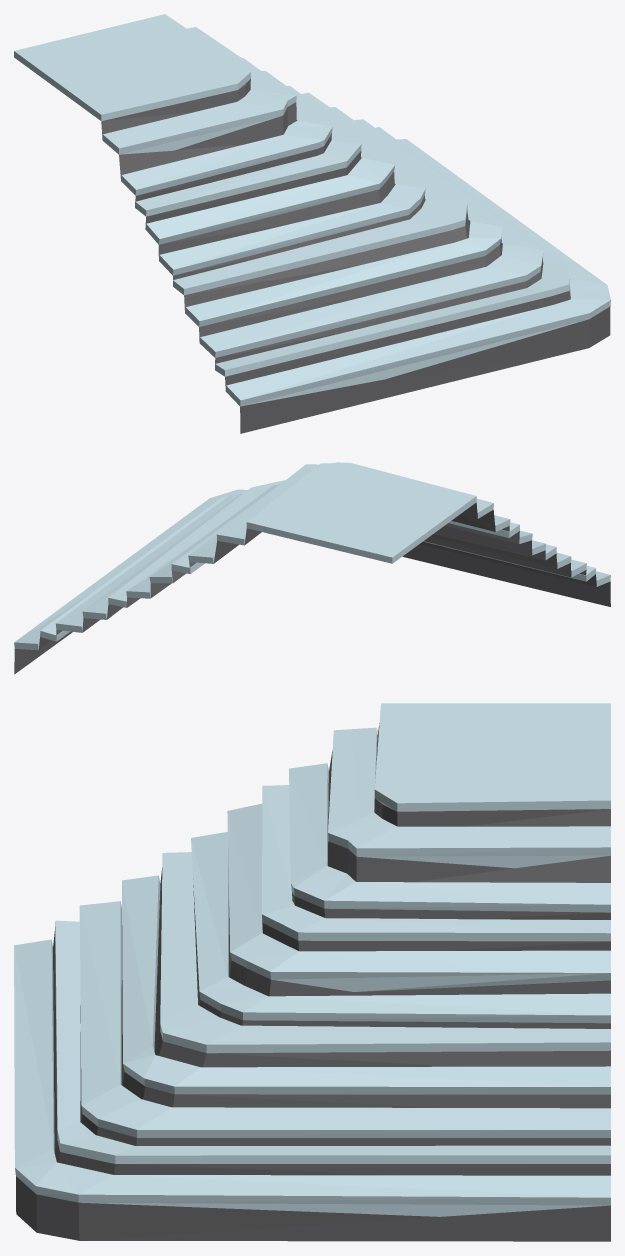
File: SM_Bld_StairsLarge_Corner_01_Snow.gltf
3 views of the same model, one above another, from view 1: azimuth 30°, elevation 25°; view 2: azimuth 150°, elevation 25°; view 3: azimuth 270°, elevation 25° (orthographic). The views are drawn at different scales.
Visible parts, largest first — view 1: SM_Bld_StairsLarge_Corner_01_Snow; view 2: SM_Bld_StairsLarge_Corner_01_Snow; view 3: SM_Bld_StairsLarge_Corner_01_Snow.
Boxes of the visible parts, x1,y1,x2,y2 form: SM_Bld_StairsLarge_Corner_01_Snow: (14,14,610,433); SM_Bld_StairsLarge_Corner_01_Snow: (14,462,610,674); SM_Bld_StairsLarge_Corner_01_Snow: (14,703,610,1241).
Size of the model in its own units: 3.86 by 2.04 by 3.86.
Materials: 1 (1 with a texture image).
